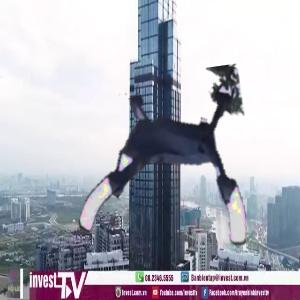drone: (70, 76, 254, 260)
